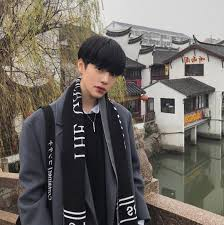people: (28, 36, 143, 225)
